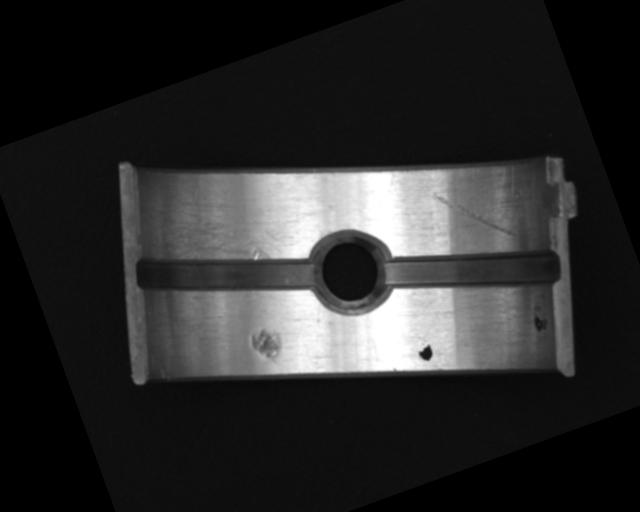blot: (526, 302, 551, 334), (414, 336, 436, 363)
bruise: (247, 323, 290, 371)
gap: (131, 204, 320, 342), (379, 205, 566, 336)
hole: (302, 222, 399, 324)
nick: (430, 169, 515, 258)
scratch: (137, 165, 299, 302)
